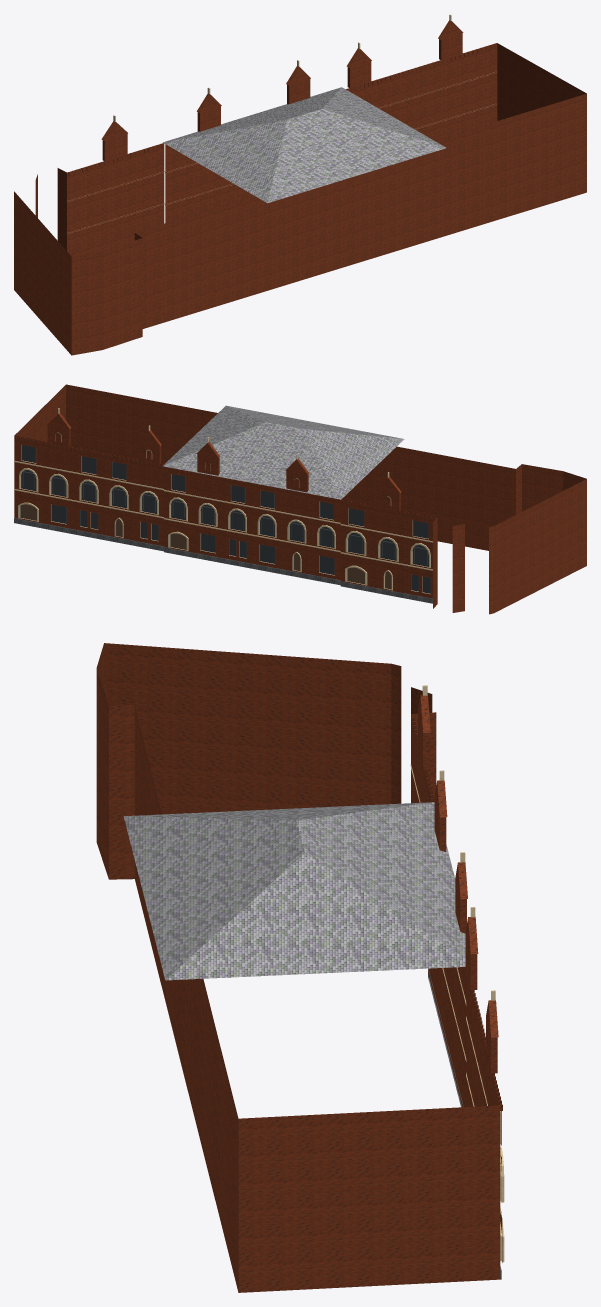
3 views of the same model, one above another, from view 1: azimuth 30°, elevation 25°; view 2: azimuth 150°, elevation 25°; view 3: azimuth 270°, elevation 25° (orthographic). The views are drawn at different scales.
Parts seen in each view (by area): view 1: bldg_432190363_landmark; view 2: bldg_432190363_landmark; view 3: bldg_432190363_landmark.
Boxes of the visible parts, x1=… form: bldg_432190363_landmark: x1=14, y1=14, x2=586, y2=355; bldg_432190363_landmark: x1=14, y1=384, x2=586, y2=614; bldg_432190363_landmark: x1=96, y1=643, x2=504, y2=1292.
Bounding box in the file's own units: 59.7 × 14.45 × 21.63.
Materials: 9 (5 with a texture image).
